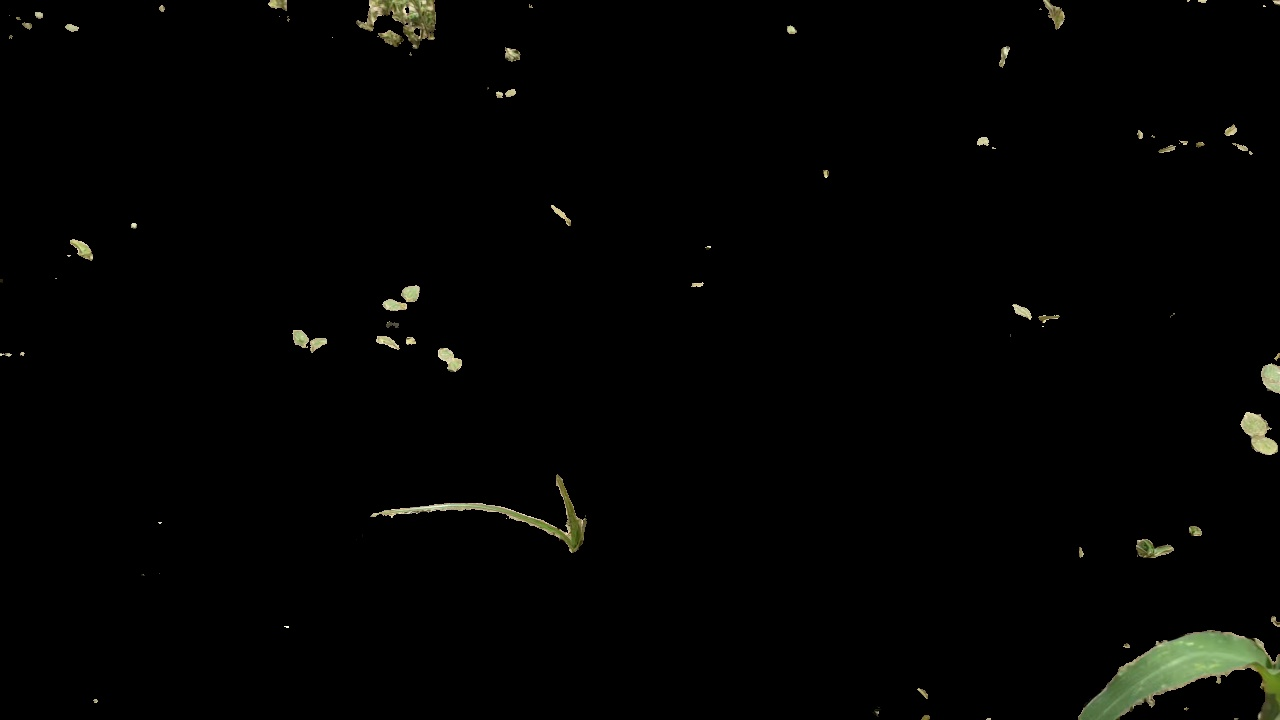crop: (1039, 602, 1280, 720)
weed: (375, 472, 591, 559), (356, 1, 451, 64), (1229, 414, 1280, 459), (1006, 297, 1061, 334), (378, 275, 421, 315), (1131, 534, 1186, 564), (366, 332, 413, 358), (1030, 1, 1080, 25), (292, 324, 326, 359), (432, 341, 468, 371), (1256, 353, 1280, 398), (63, 234, 100, 261), (486, 85, 533, 99)
